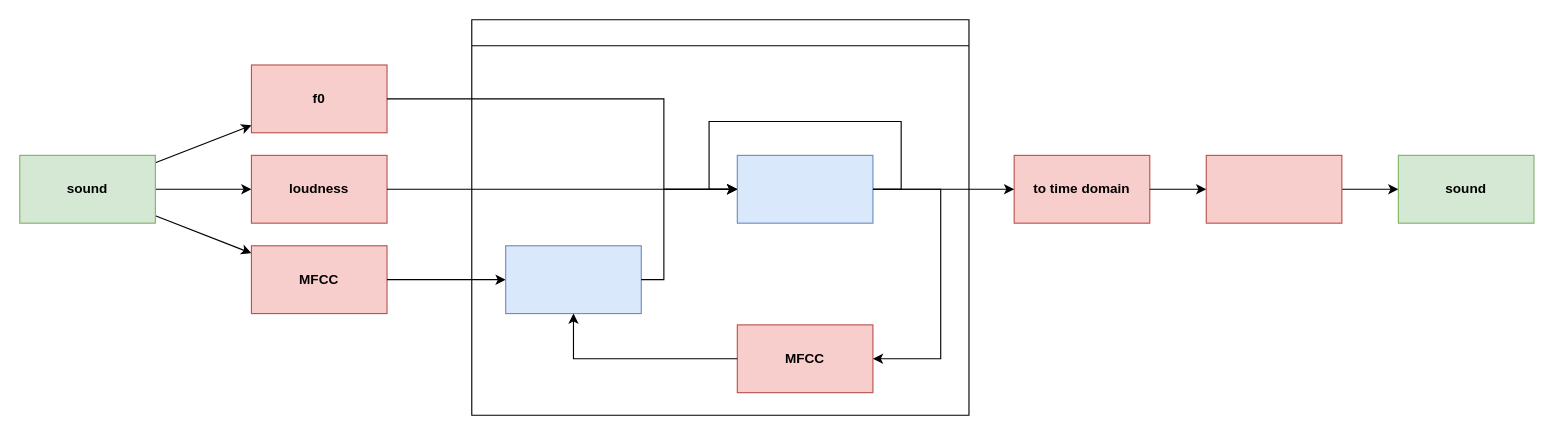
Some shapes in this 1554 by 435 pixel diagram are drawn without their labels. Each missing label, with the box of its shape:
recover spectrum: (736, 154, 873, 223)
scale loudness: (1205, 154, 1342, 223)
Vertical Container: (471, 19, 969, 415)
zip (new hidden state): (505, 245, 641, 314)
